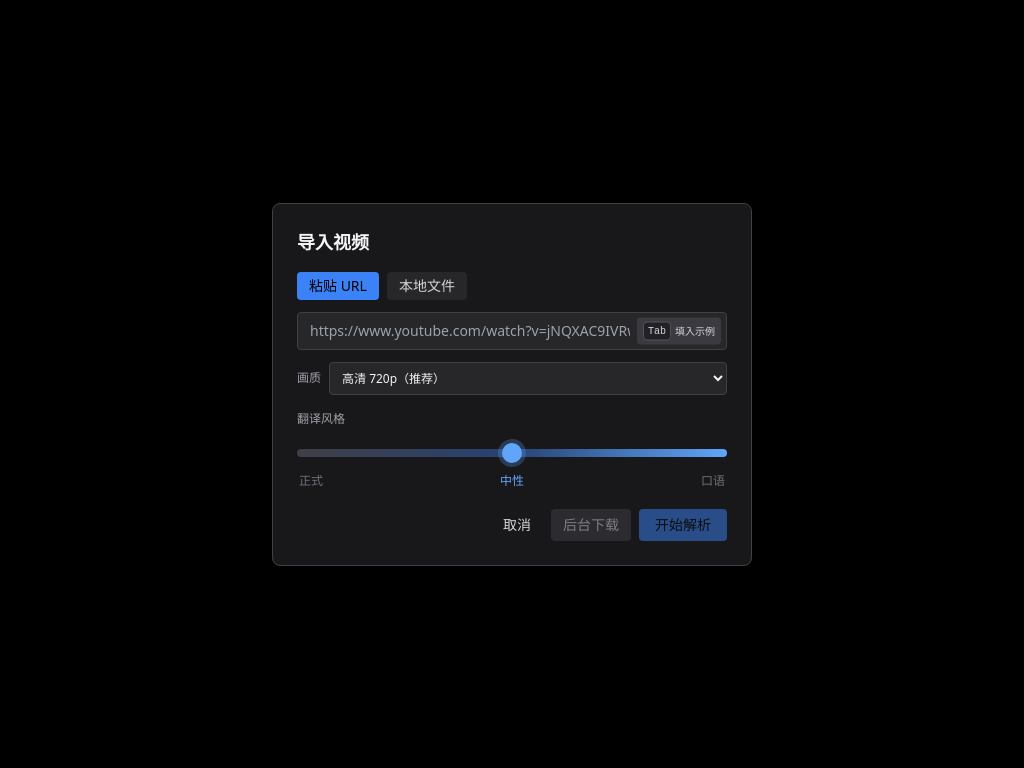
ImportModal — onboarding sample-URL affordance › fills the sample URL when the affordance is clicked
Click the button "Tab 填入示例".
click(679, 330)  # box [637,317,721,344]
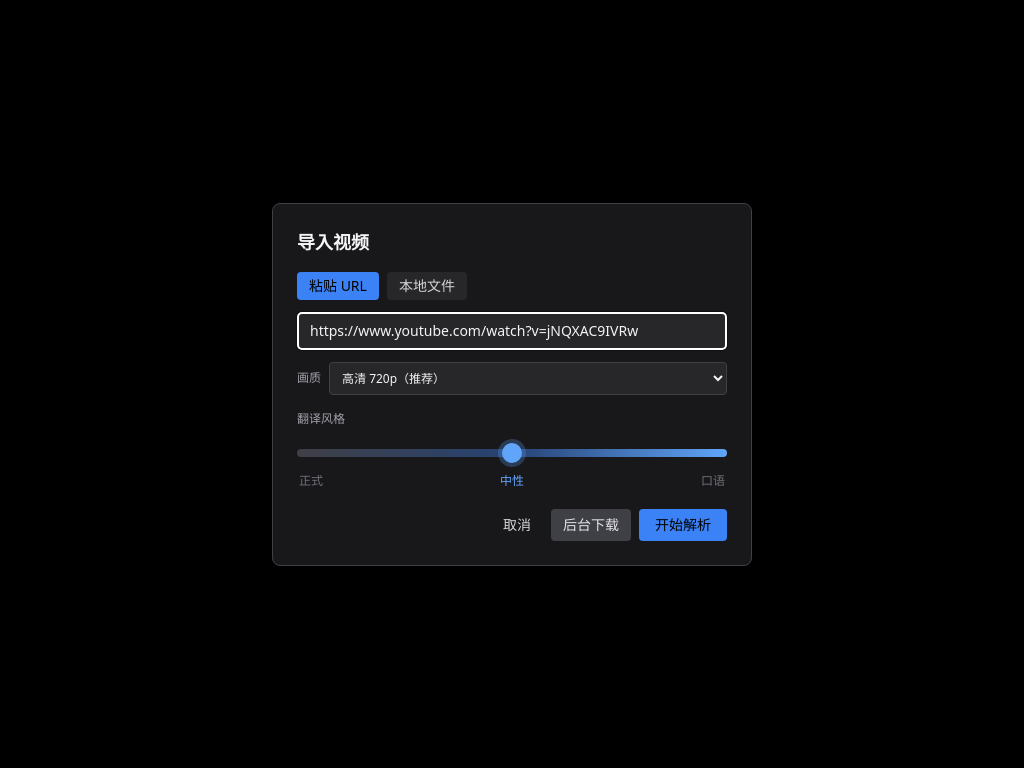
Now the field holds "https://www.youtube.com/watch?v=jNQXAC9IVRw", box [297,312,727,350]
